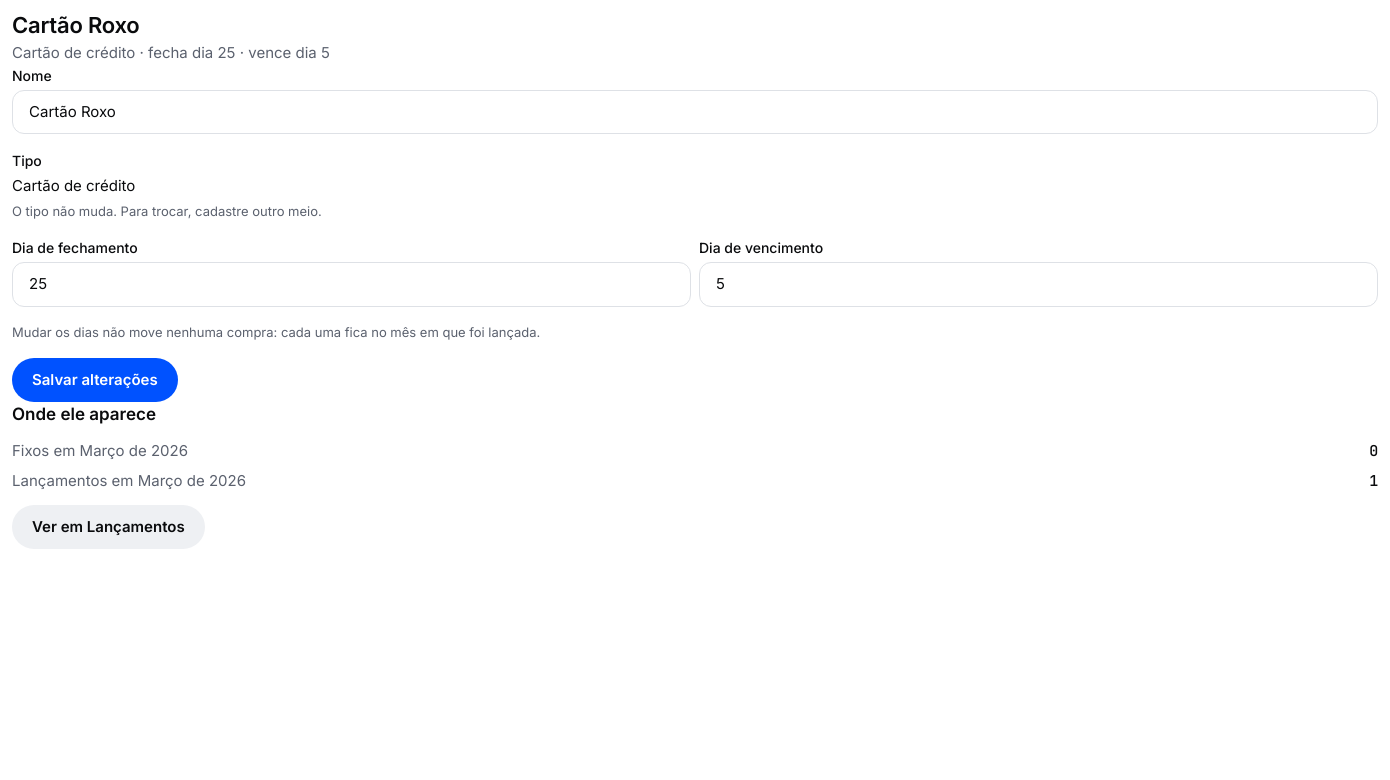
Test: a regra no navegador (CADCOL-07, AC 10; L-029, L-041) › o nome vazio não chega ao servidor, e a mensagem fica junto do campo
Clear the field labelled "Nome" at {"x": 695, "y": 112}, box [12, 90, 1378, 134]
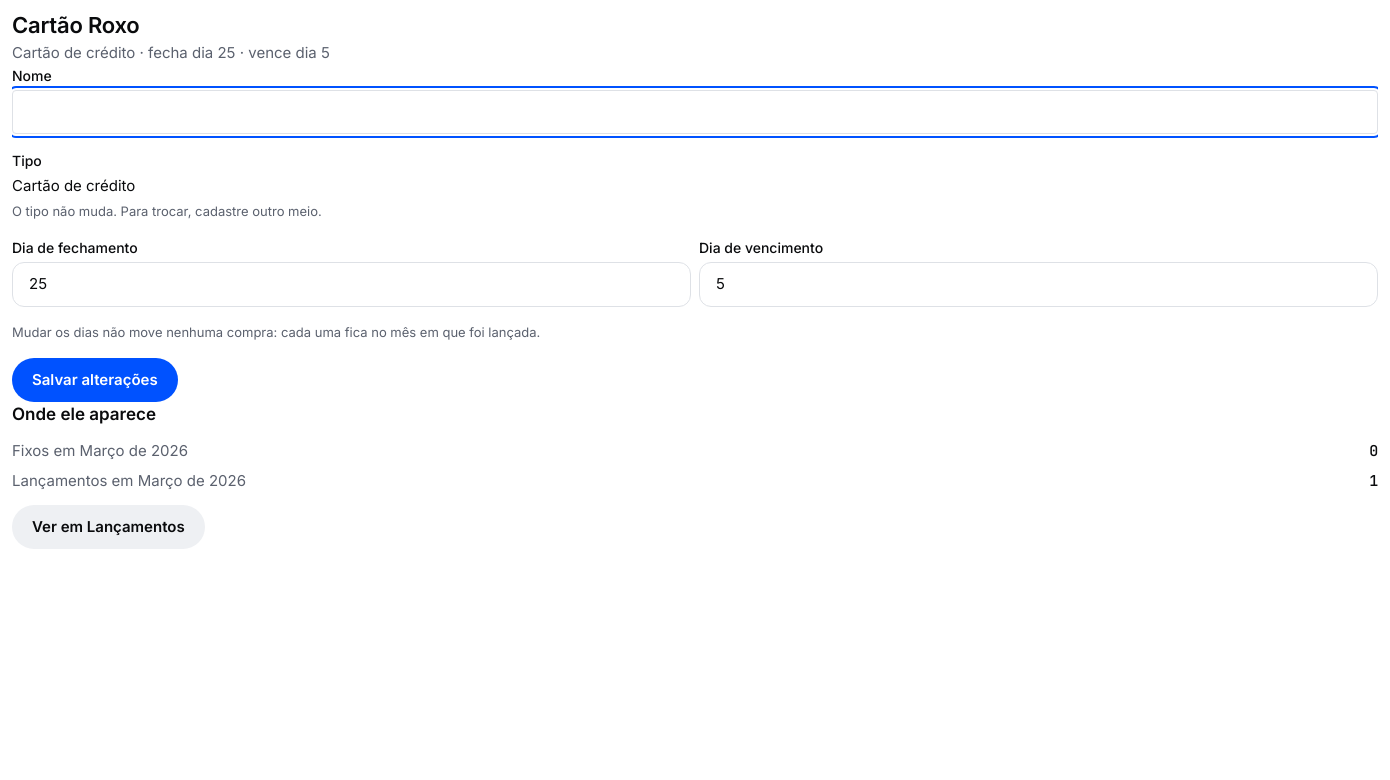
Click the button "Salvar alterações" at {"x": 95, "y": 380}, box [12, 358, 178, 402]
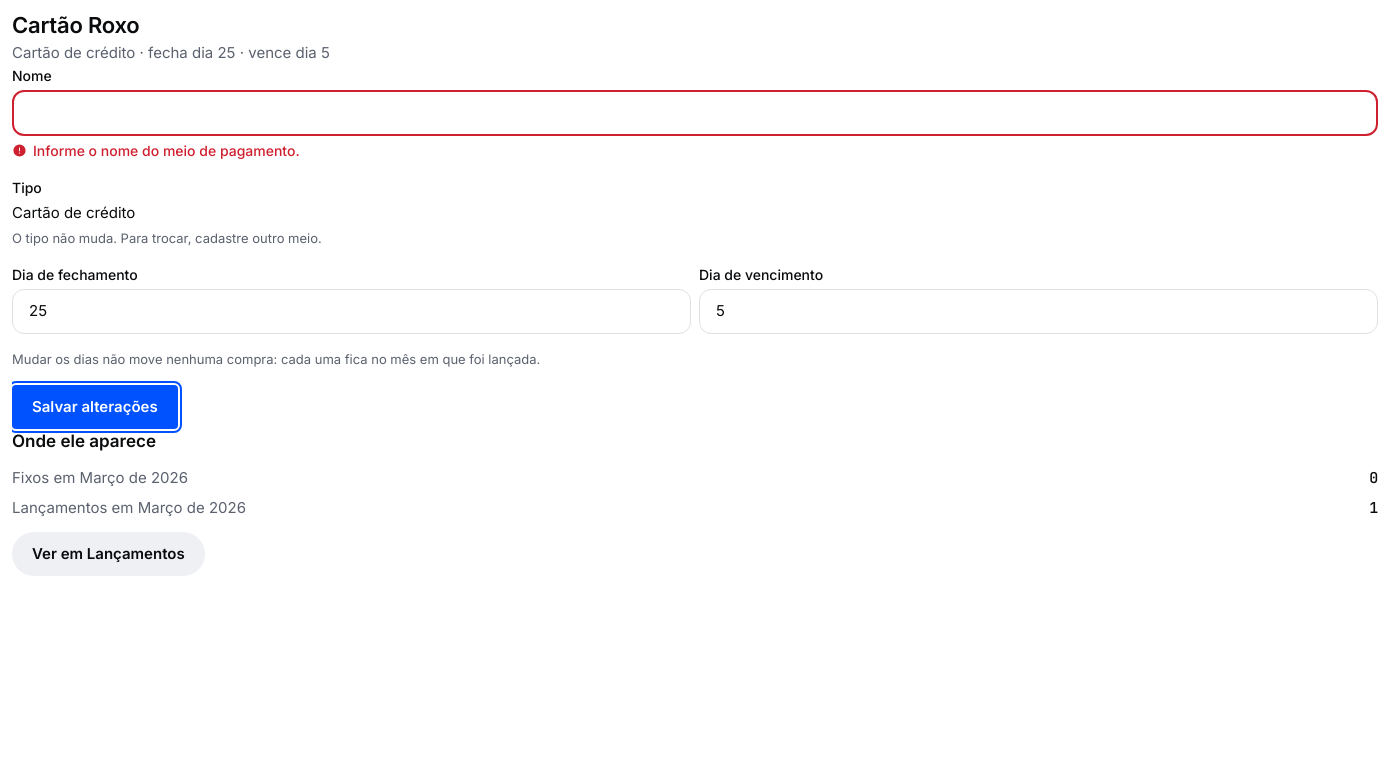
Expected: the message reads "Informe o nome do meio de pagamento.", [33, 142, 300, 159]
